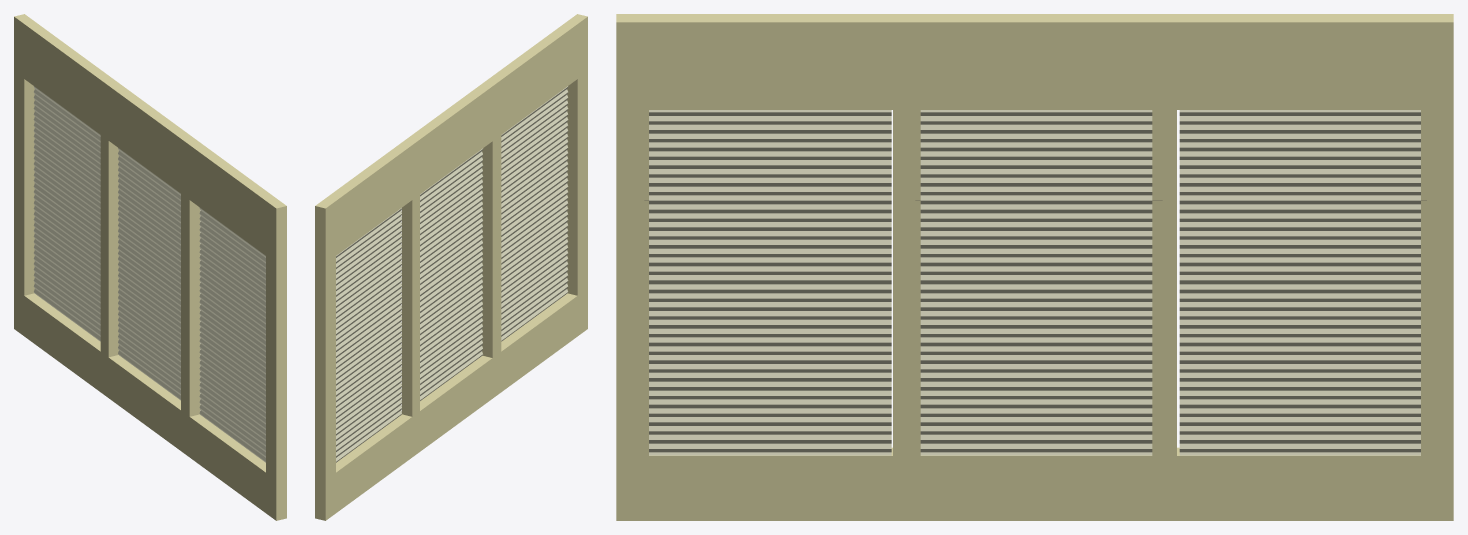
File: 3windowWall.fbx
The picture shows the model from 3 angles, left to right: view 1: azimuth 30°, elevation 25°; view 2: azimuth 150°, elevation 25°; view 3: azimuth 270°, elevation 25°; orthographic projection. The views are drawn at different scales.
Parts seen in each view (by area): view 1: pCube3, shade, shade2, shade1; view 2: pCube3, shade2, shade, shade1; view 3: pCube3, shade2, shade, shade1.
Part boxes in pixels (x1,y1,x2,y2): pCube3: (14, 14, 286, 520); shade: (33, 86, 100, 341); shade2: (199, 207, 265, 462); shade1: (118, 148, 180, 400); pCube3: (315, 14, 587, 520); shade2: (501, 86, 568, 341); shade: (336, 208, 401, 462); shade1: (420, 148, 482, 400); pCube3: (616, 14, 1453, 520); shade2: (644, 110, 891, 455); shade: (1179, 110, 1426, 455); shade1: (915, 110, 1162, 455).
Bounding box in the file's own units: 0.2864 × 8.12 × 12.36.
